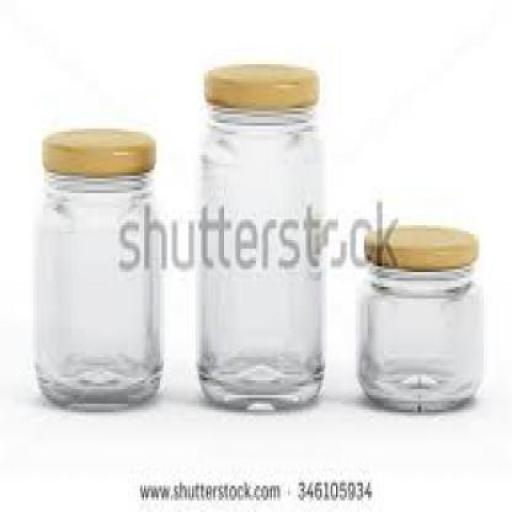glass: (197, 102, 324, 410), (36, 169, 160, 407), (353, 266, 480, 412)
metal: (362, 222, 474, 267), (204, 61, 316, 103), (42, 129, 154, 169)
